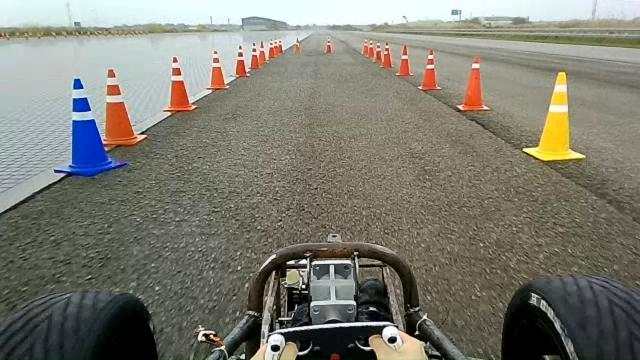blue cone: (53, 77, 127, 177), (72, 78, 84, 90)
red cone: (101, 68, 147, 146), (162, 56, 198, 112), (456, 56, 490, 112), (205, 50, 230, 90), (418, 49, 442, 90), (396, 44, 414, 76), (232, 43, 248, 76), (380, 42, 394, 68), (249, 42, 261, 70)
yellow cone: (522, 70, 586, 162)
